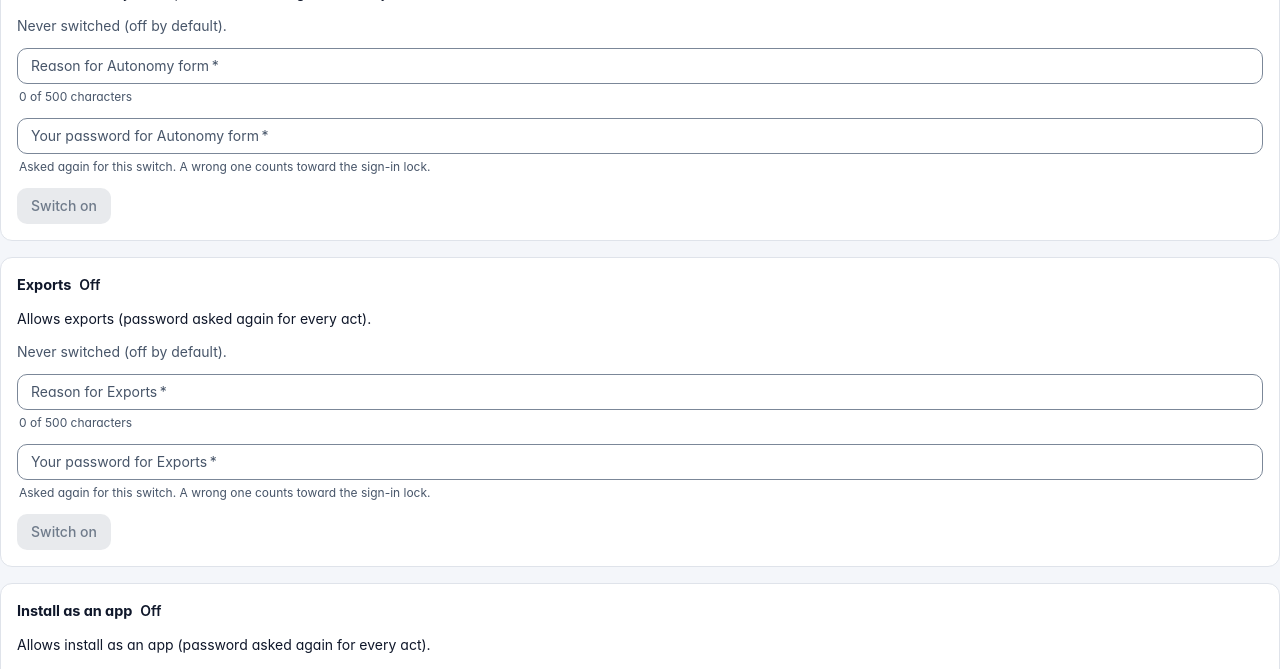
Test: Owner-act switches › switches off with a reason only and sends no password key
(page scrolled)
Expected: the heading "Exports" is shown, [17,274,71,296]
Type "on first" into the field labelled "Reason for Exports *".
click(640, 392); type("on first")  # box [17,374,1263,410]
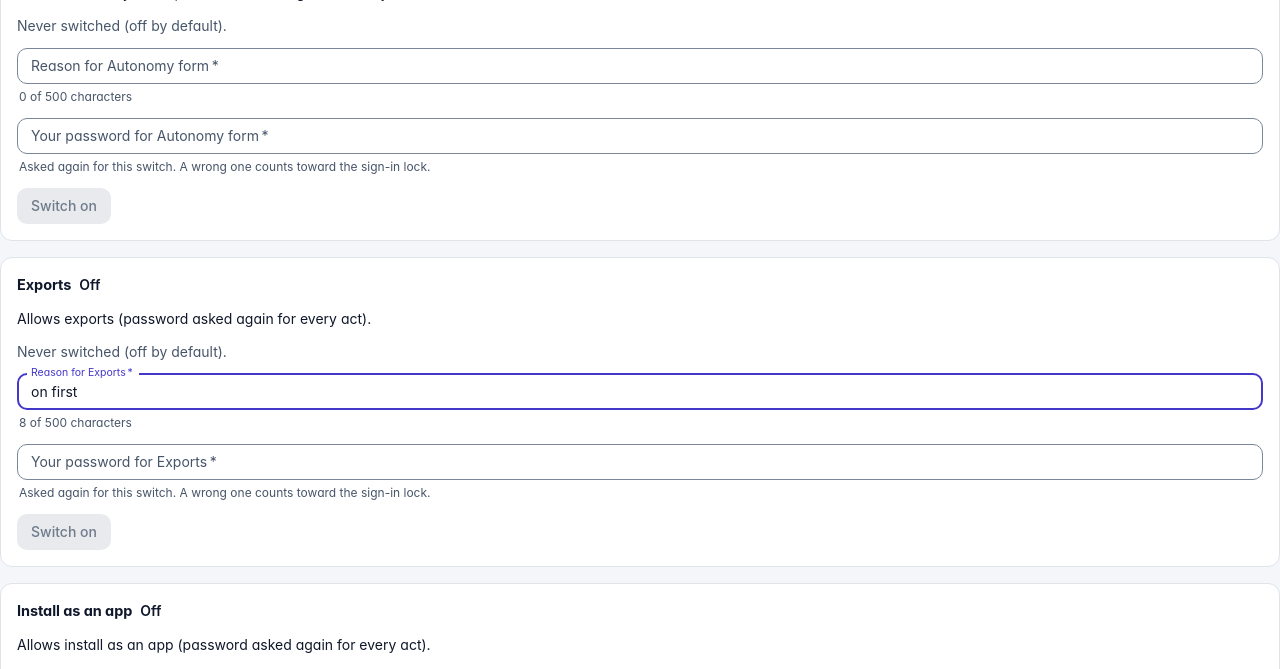
Type "pw" into the password field labelled "Your password for Exports *".
click(640, 462); type("pw")  # box [17,444,1263,480]
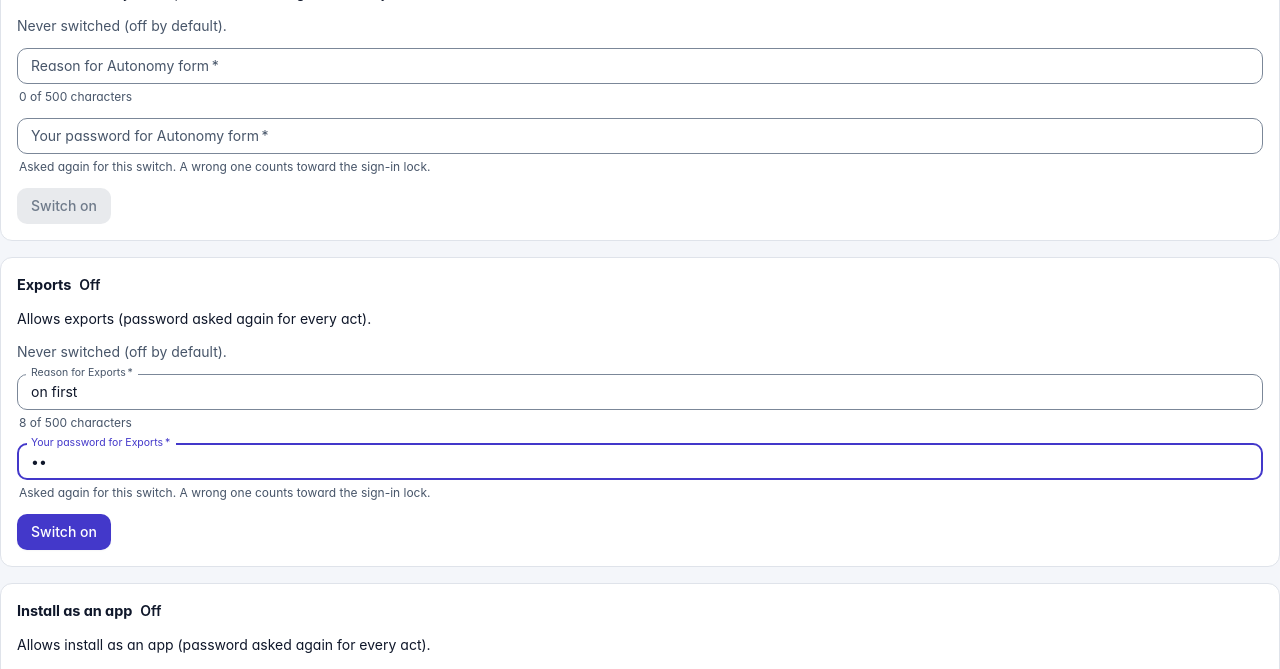
Click the button "Switch on" below "Your password for Exports".
click(64, 532)  # box [17,514,111,550]
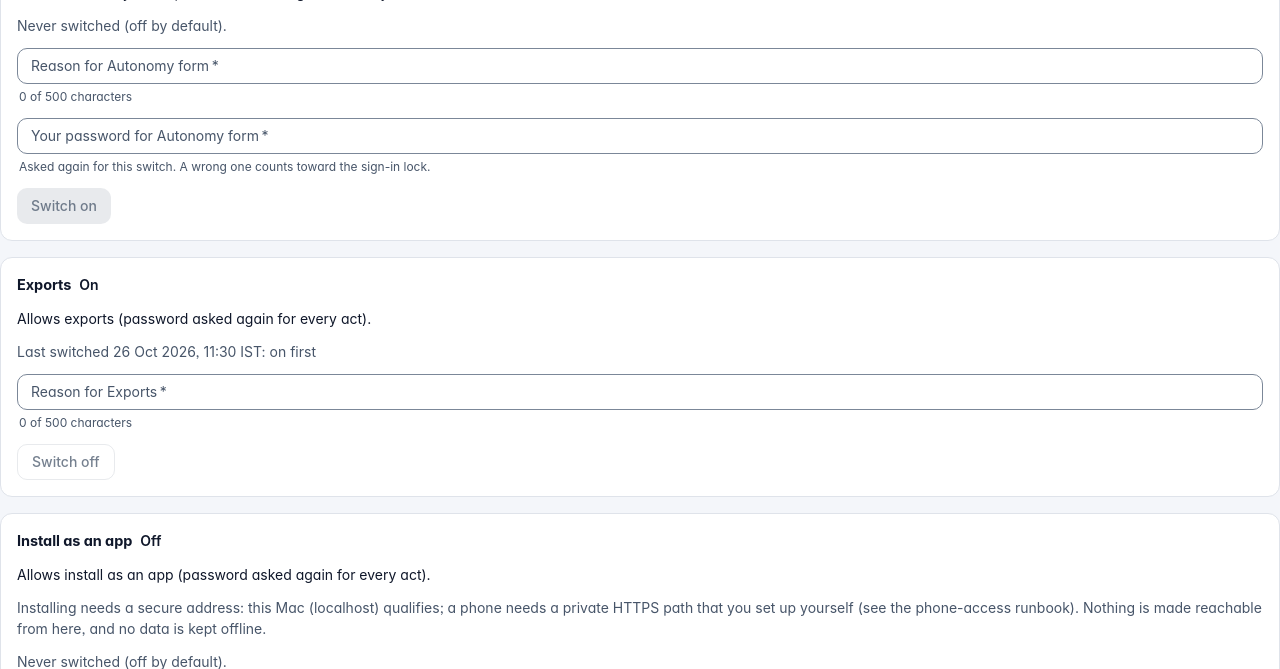
Expected: the text "On" is shown, [79,274,99,295]
Type "not needed" into the field labelled "Reason for Exports *".
click(640, 392); type("not needed")  # box [17,374,1263,410]
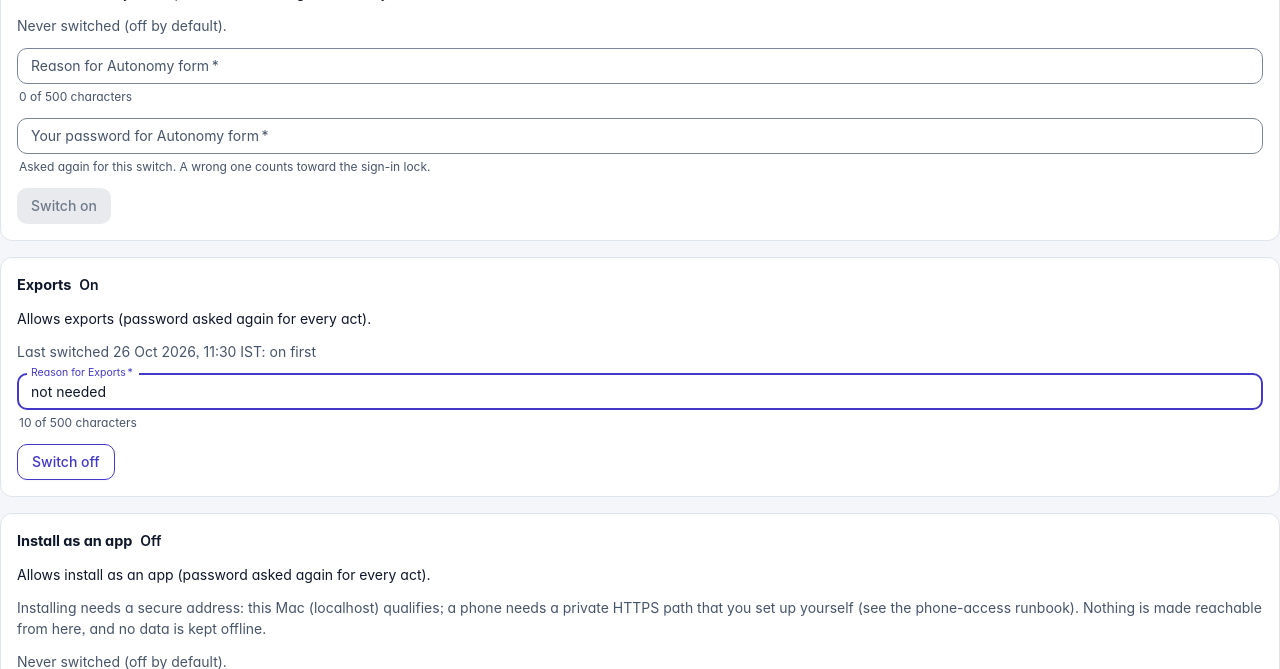
Click the button with aria-label "Switch off Exports".
click(66, 462)  # box [17,444,115,480]
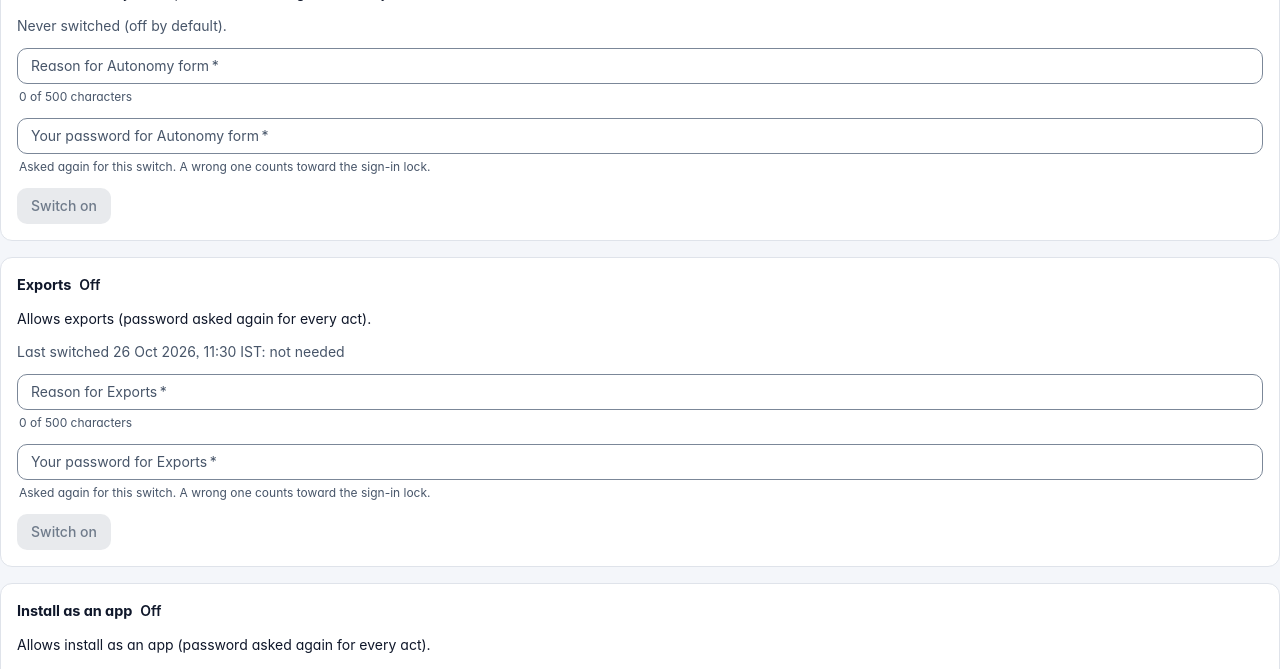
Expected: the button with aria-label "Switch on Exports" is shown, [17,514,111,550]
